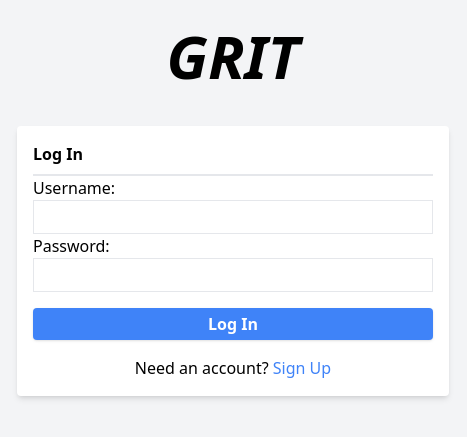
Test: Login Page › logs in username and password not populated
Click the button with test id "login-button": click(233, 324) x1=33 y1=308 x2=433 y2=340
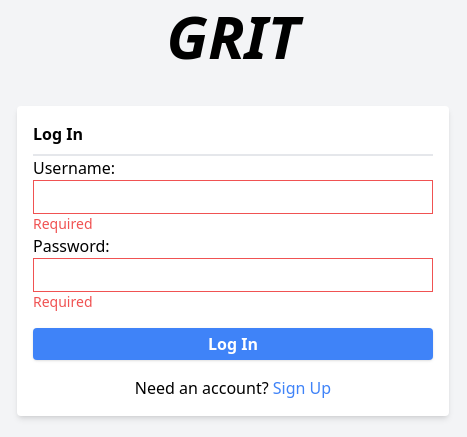
Now the text with test id "username-error" is shown, box x1=33 y1=214 x2=93 y2=233
Now the text with test id "password-error" is shown, box x1=33 y1=292 x2=93 y2=311
Now the 2nd text "Required" is shown, box x1=33 y1=292 x2=92 y2=311
